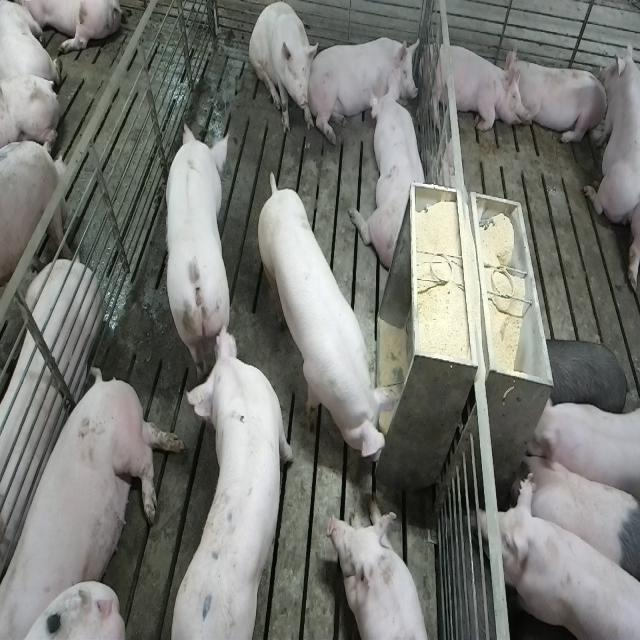Lateral_lying: (5, 363, 186, 635), (0, 260, 103, 579)
Sitting: (249, 3, 318, 138)
Standing: (259, 172, 392, 469), (173, 318, 296, 635), (499, 486, 639, 640), (158, 120, 230, 379), (514, 442, 638, 587), (0, 142, 72, 340), (530, 389, 640, 514), (540, 334, 634, 418)
Sternal_lying: (333, 506, 436, 640), (358, 84, 430, 273), (313, 29, 418, 138), (508, 51, 608, 149), (586, 38, 637, 226), (426, 36, 518, 135)
